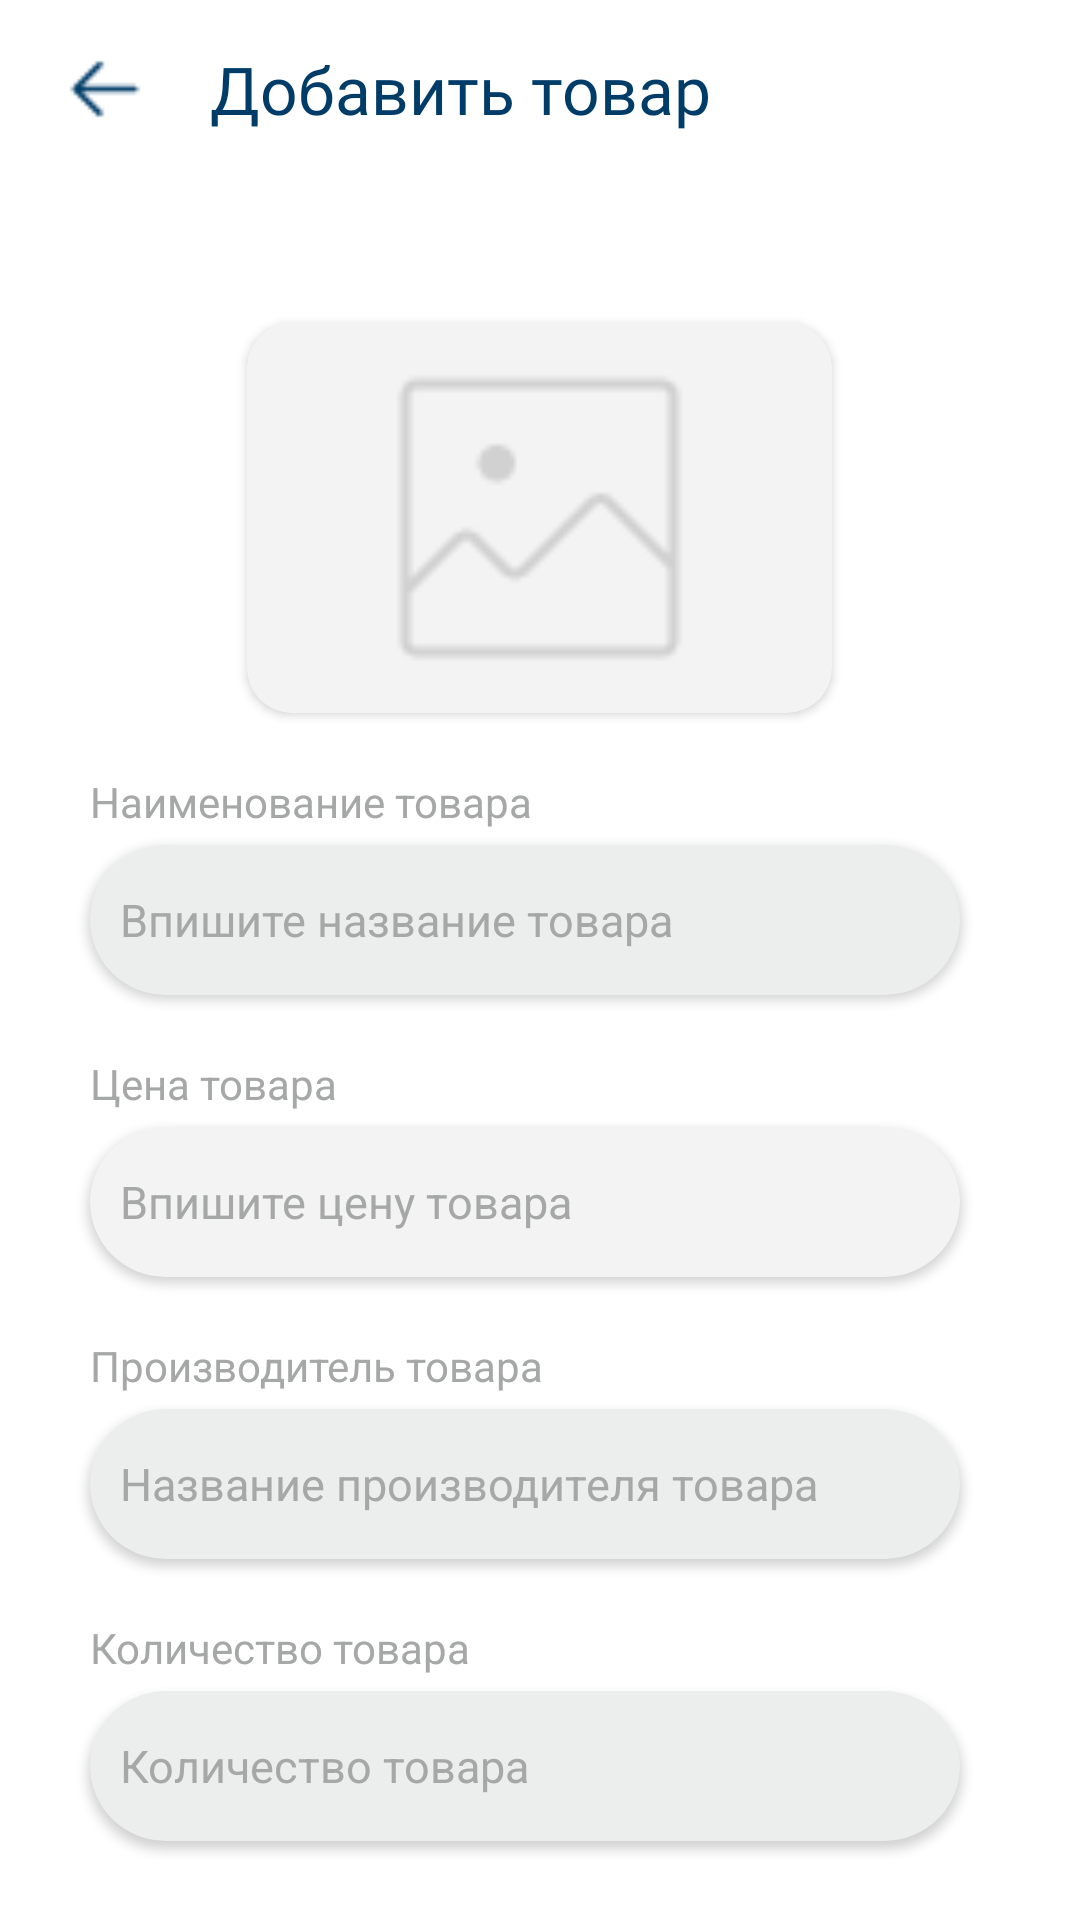

Icon click points for this 1080*1920 phone screenshot, format (x=x, y=y):
back: (x=105, y=89)
galery: (x=539, y=518)
